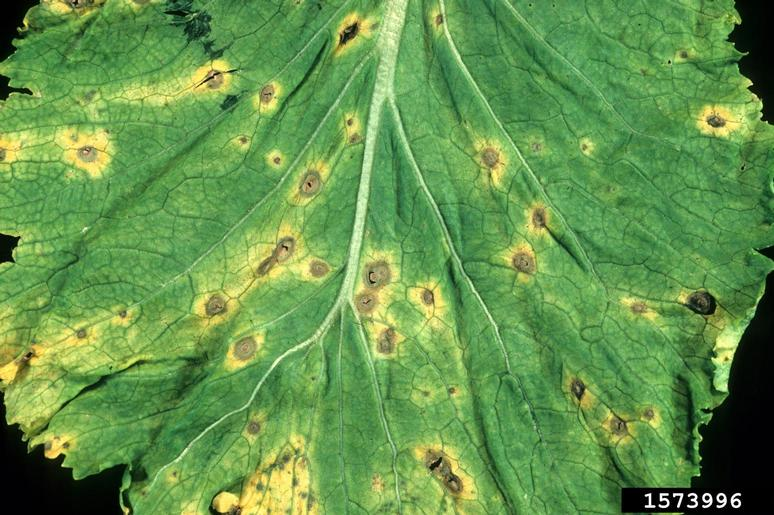Mustard_AlteriaLeafSpot: (16, 6, 699, 478)
